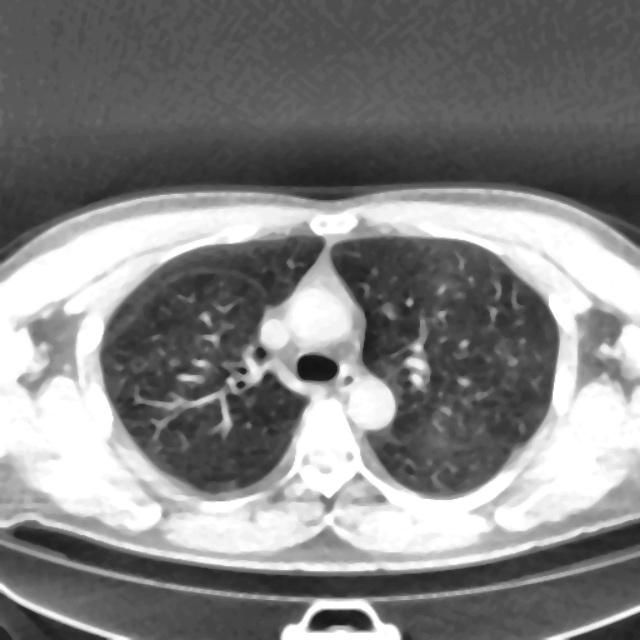covid: (0, 182, 639, 575)
